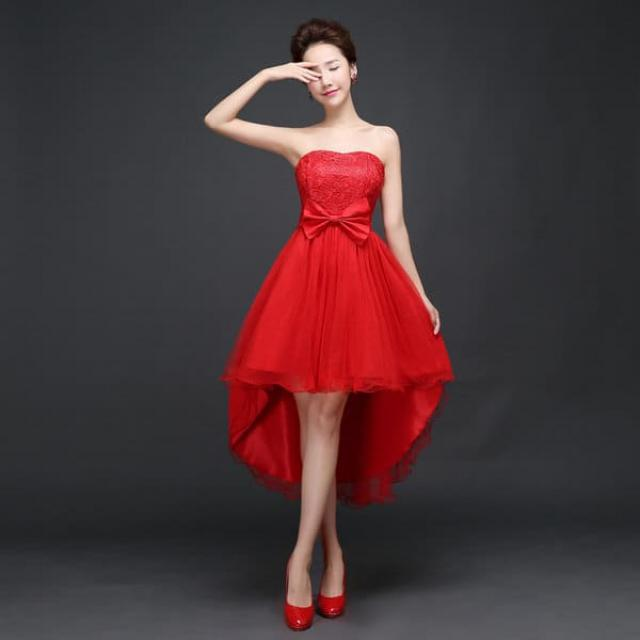clothes: (225, 132, 449, 508)
